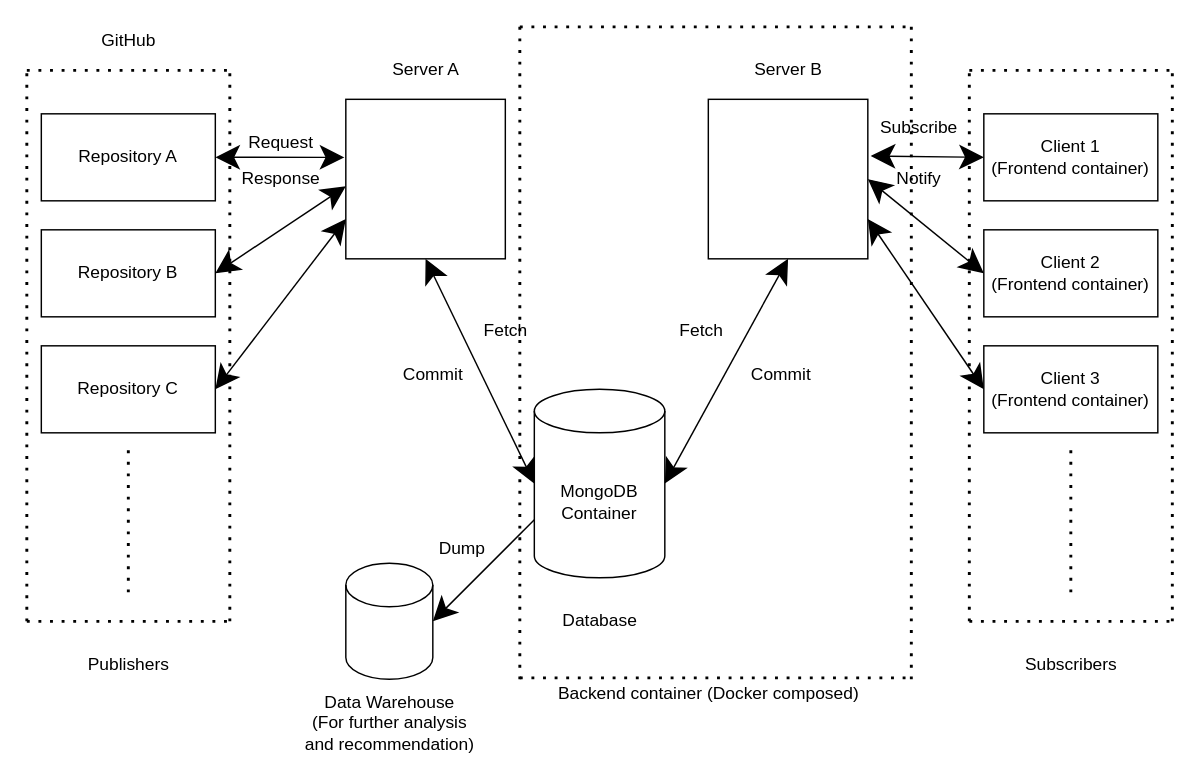
This 1199x783 diagram has some shape labels left out. The shapes that lost their labels are listed below. From the top down, each one's box as (x1, y1, x2, y2) in pixels, then its label:
(344, 98, 505, 259): Publisher Data Handler
(707, 98, 868, 259): Subscriber Data Handler (Flask Container)
